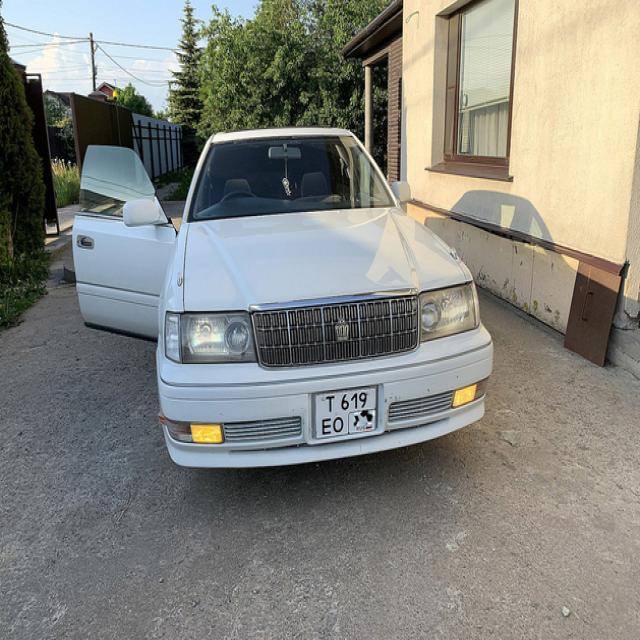number-plates: (312, 385, 378, 443)
